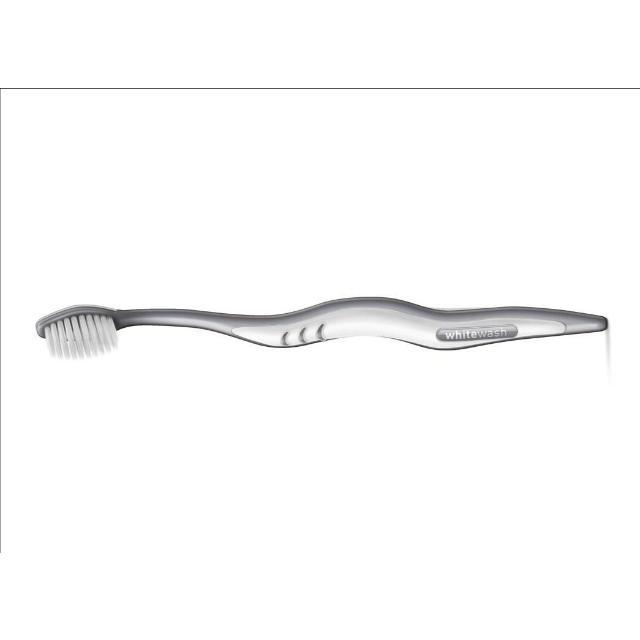toothbrush: (4, 277, 628, 387)
